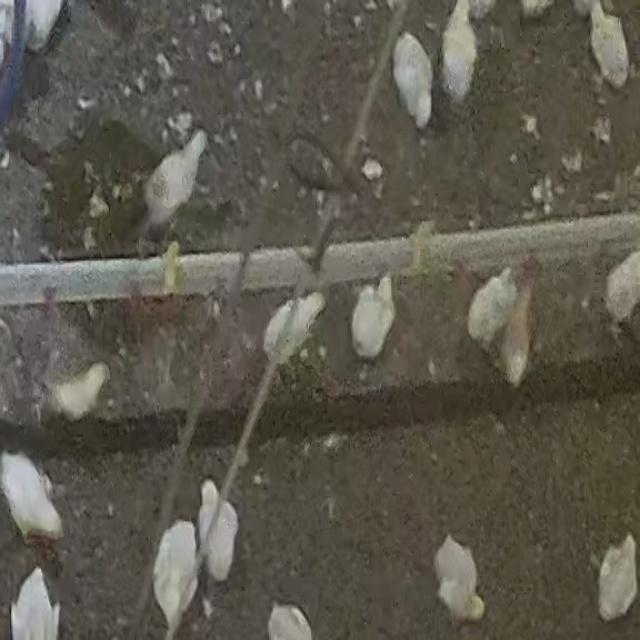chicken: (142, 126, 212, 227), (1, 450, 63, 549), (152, 519, 200, 635), (262, 290, 329, 361), (434, 534, 485, 624), (197, 479, 239, 586), (439, 0, 481, 107), (392, 33, 433, 131), (468, 268, 517, 348), (349, 276, 396, 358), (587, 0, 629, 90), (497, 289, 534, 387), (599, 535, 639, 622), (51, 364, 108, 422), (605, 248, 640, 325)
